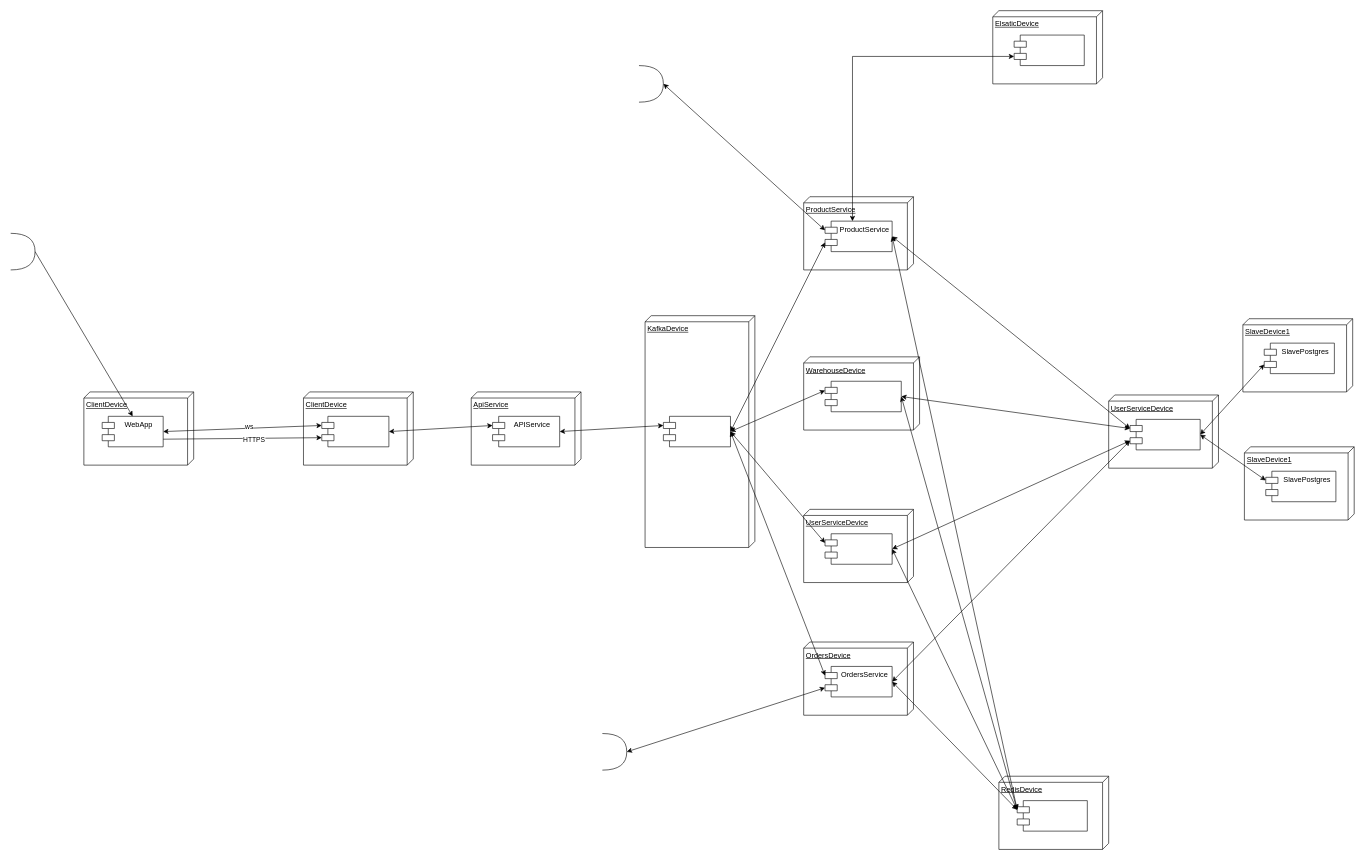
This 1365x860 diagram has some shape labels left out. The shapes that lost their labels are listed below. From the top down, each one's centre as x and y in pixels, then its label:
At (1049,50): "ElasticSearch".
At (650,83): "Amazon S3 / Любое другое облако".
At (22,251): "CDN".
At (862,396): "WarehouseService".
At (355,431): "LoadBalancer".
At (696,431): "Kafka".
At (1164,434): "MasterPostgres".
At (858,548): "UserService".
At (614,751): "External Order System API".
At (1052,815): "Redis".
